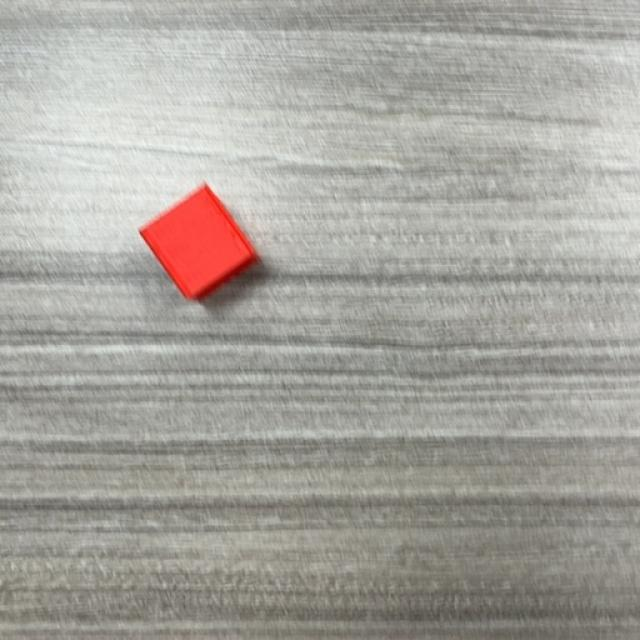Rojo: (136, 184, 260, 302)
